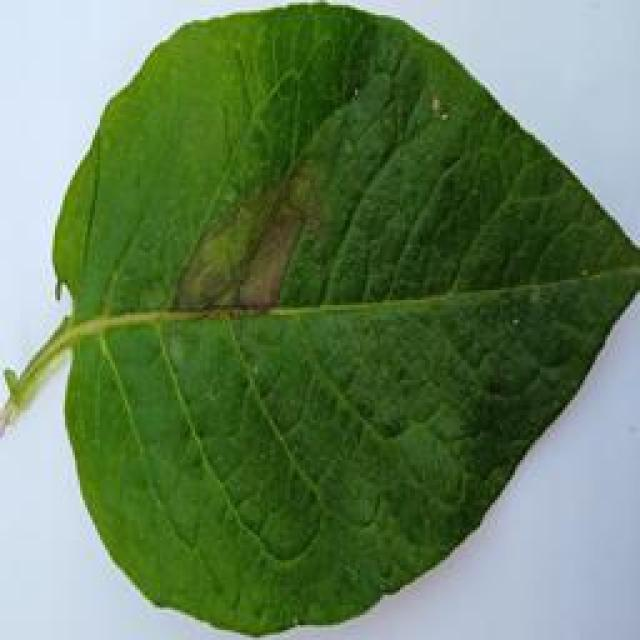Potato_Late_Blight: (27, 7, 629, 634)
